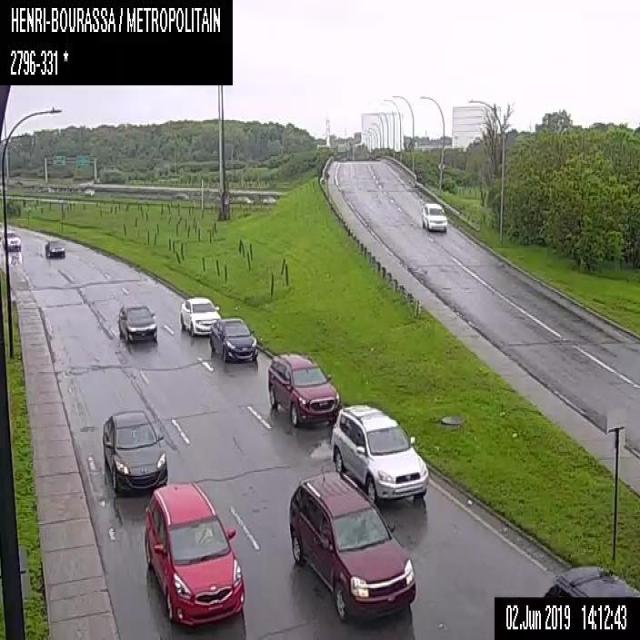vehicle: (288, 471, 416, 624), (144, 482, 243, 625), (330, 403, 428, 503), (102, 409, 167, 493), (268, 352, 338, 426), (543, 562, 639, 594), (209, 317, 258, 363), (180, 296, 220, 335), (118, 304, 156, 343), (420, 200, 446, 231), (44, 238, 64, 257), (2, 231, 21, 249), (232, 193, 252, 204), (82, 185, 94, 195), (174, 190, 188, 198)
